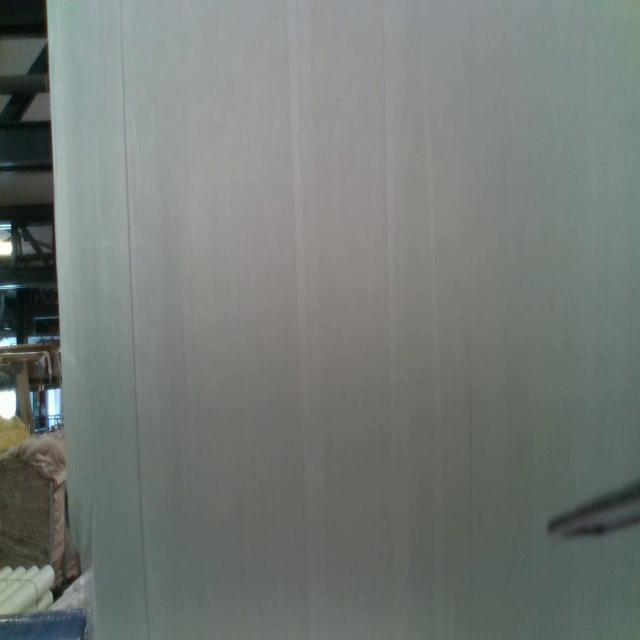crease: (120, 1, 151, 640), (467, 346, 475, 640)
